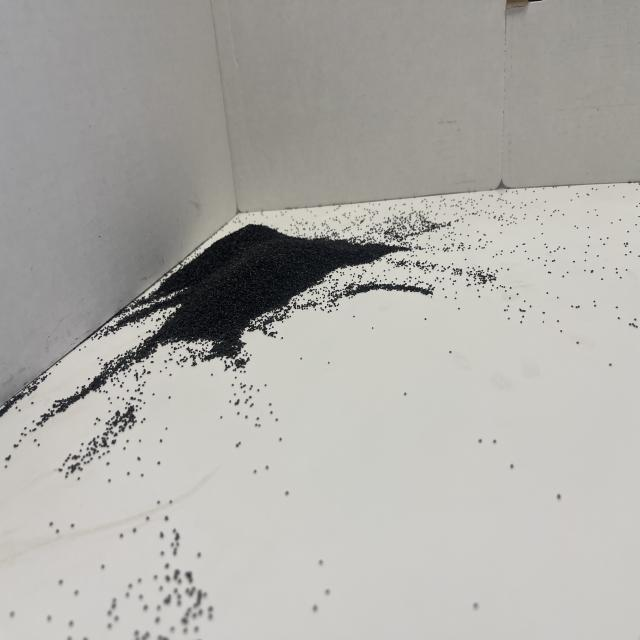Poppy Seeds: (116, 222, 393, 362)
